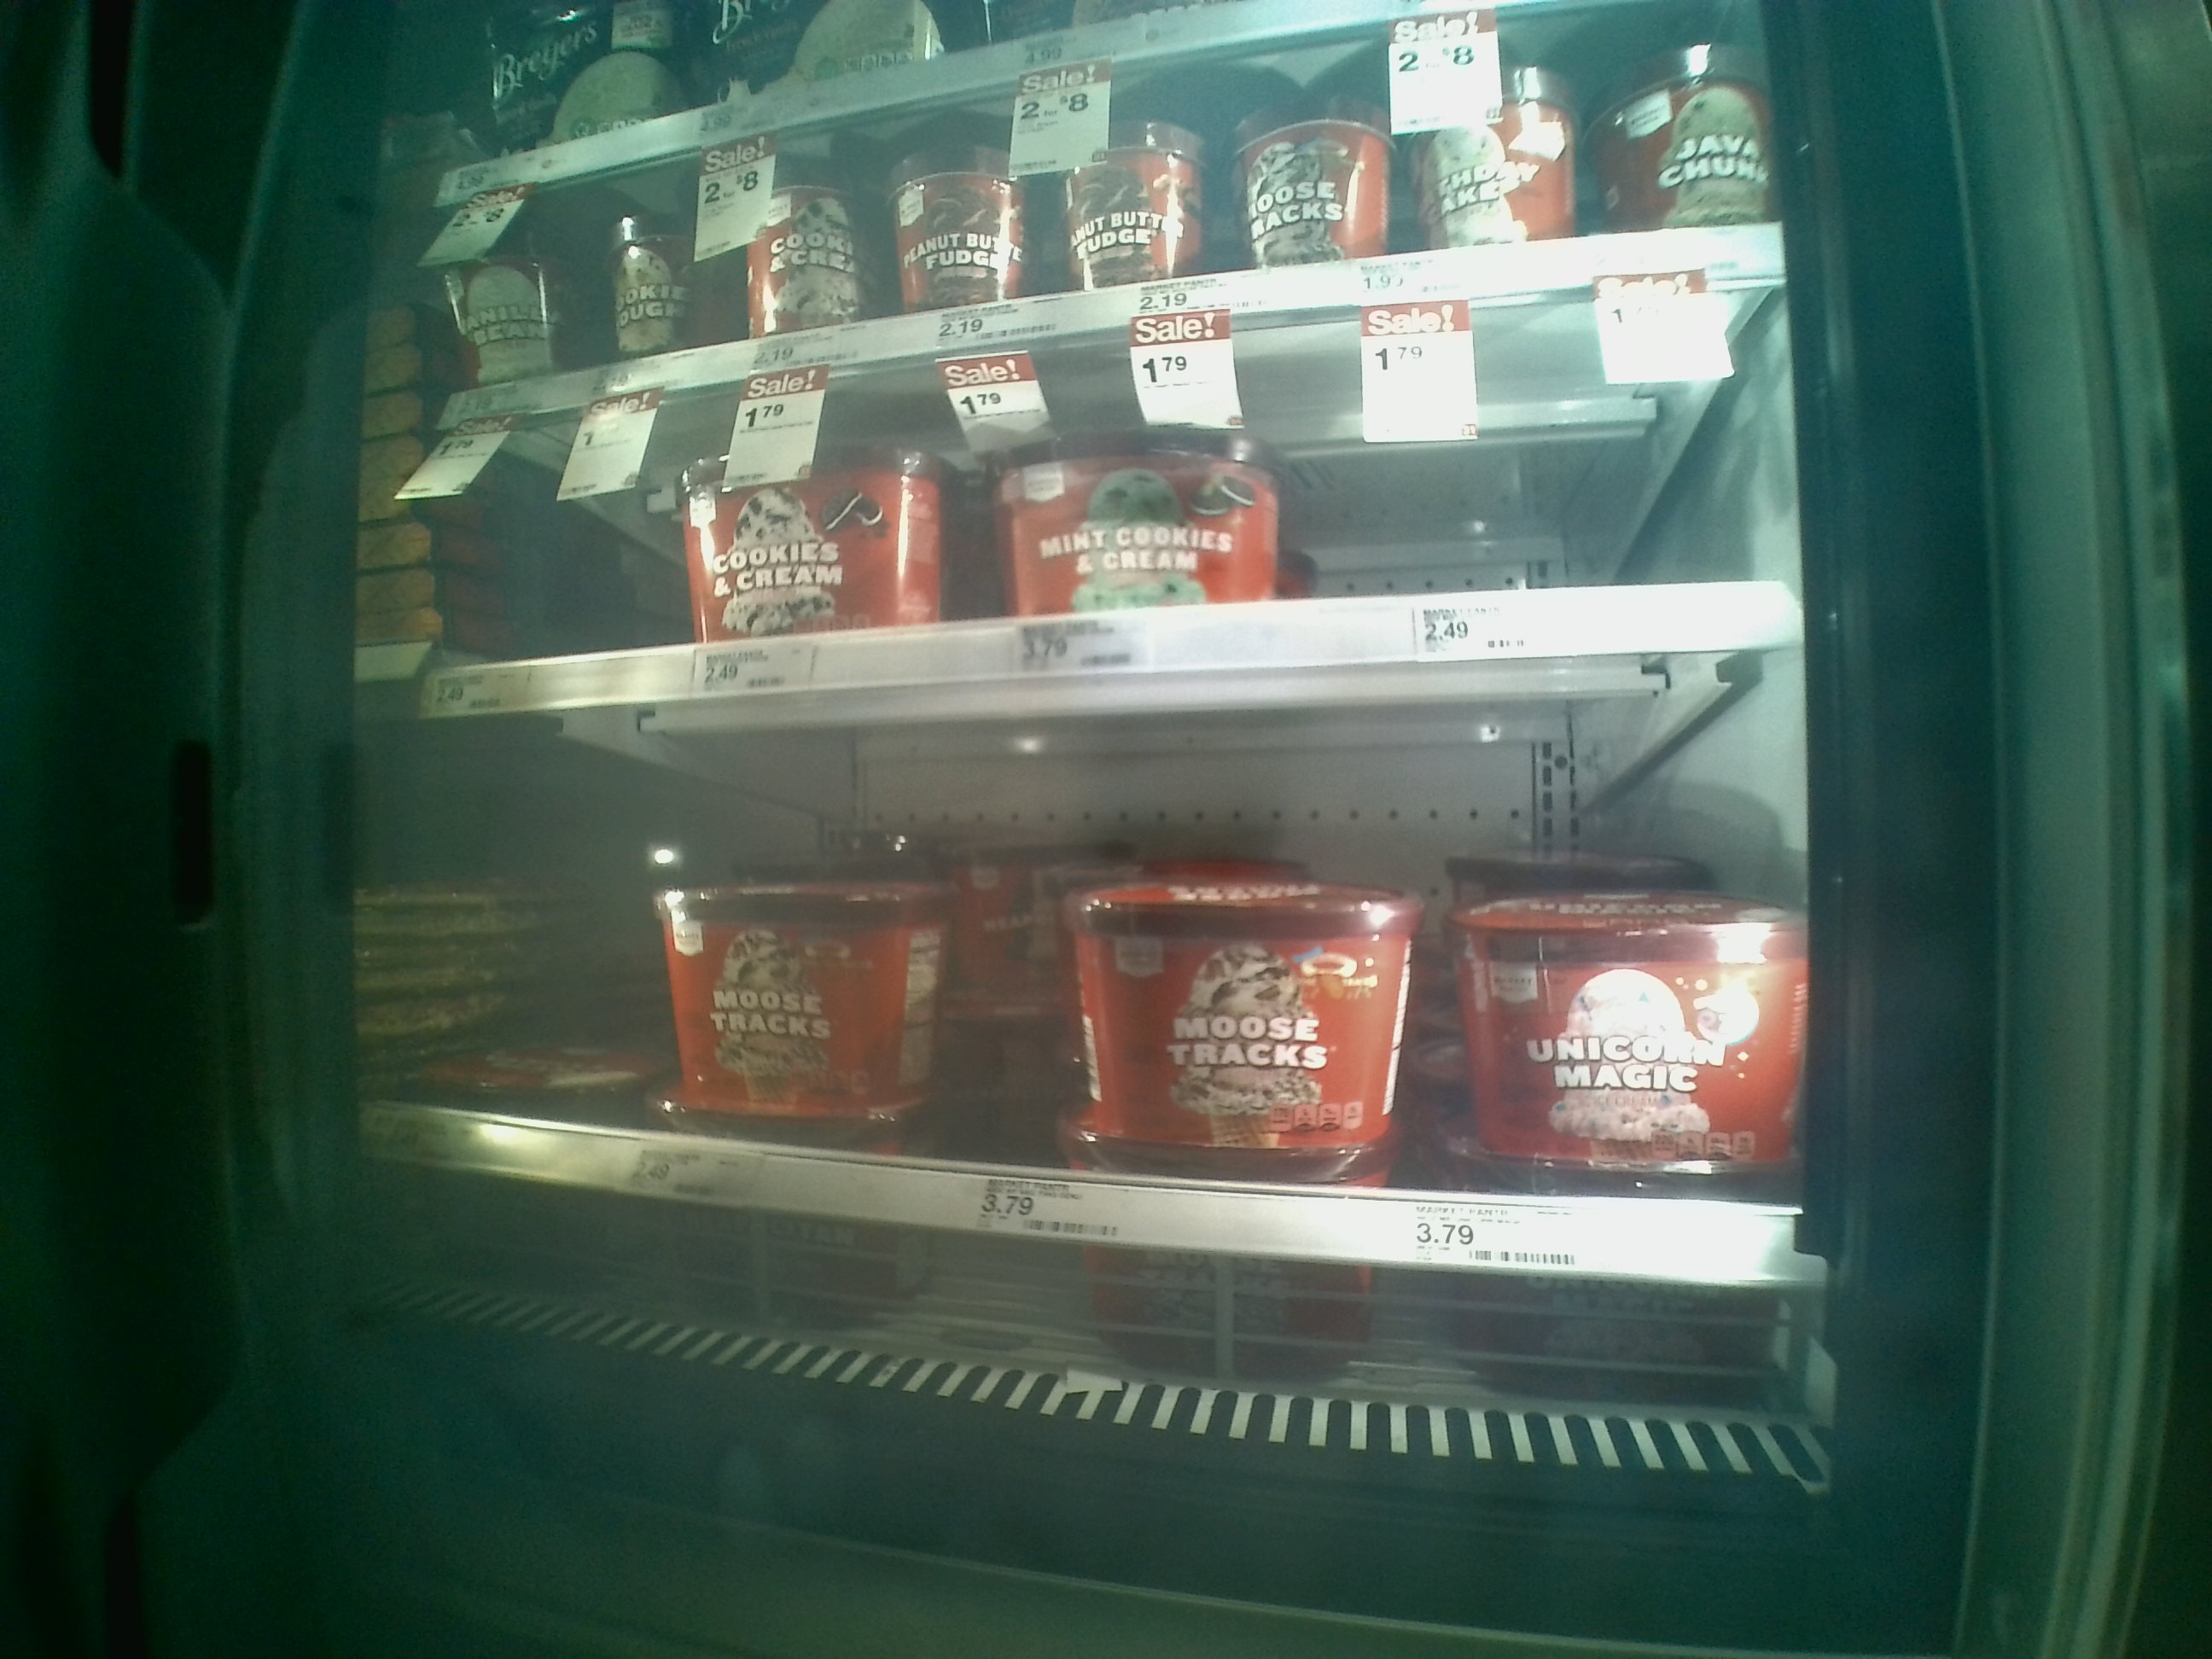shelf: (420, 678, 1804, 1291), (435, 279, 1801, 734)
